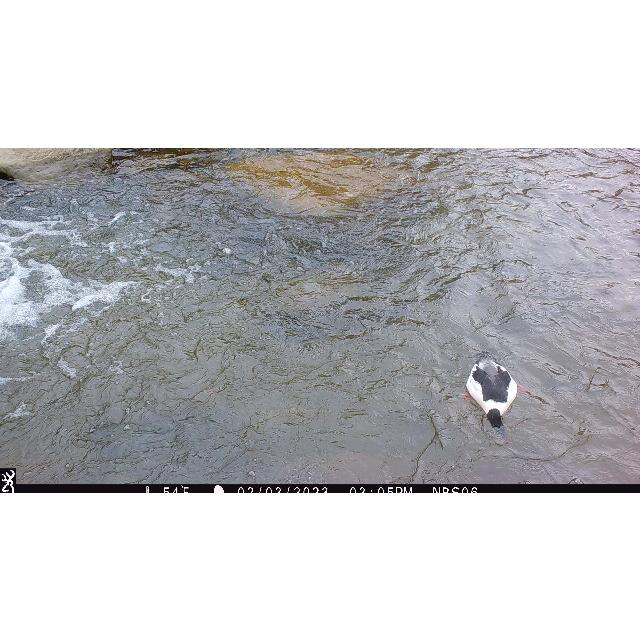animals: (466, 352, 530, 430)
